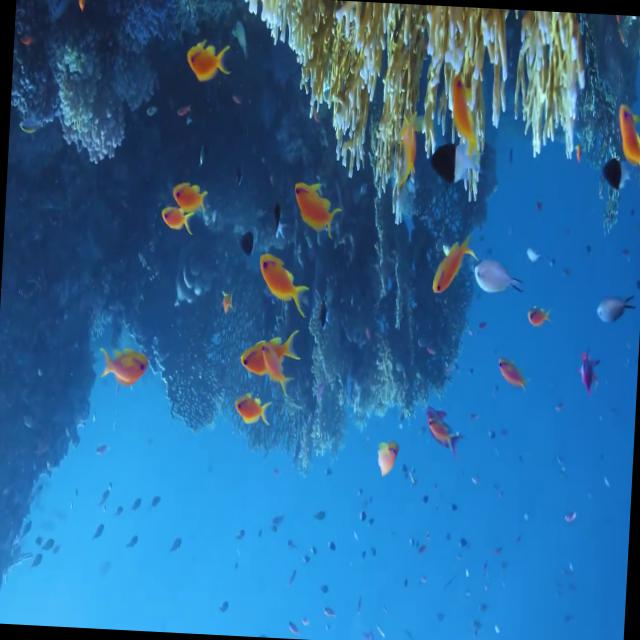fish: (254, 244, 316, 331), (282, 170, 350, 247), (422, 228, 480, 313), (424, 141, 498, 189), (183, 26, 234, 88), (256, 340, 297, 414), (233, 336, 301, 379), (590, 280, 638, 340), (492, 342, 536, 406), (95, 345, 152, 391), (610, 91, 640, 177), (231, 390, 277, 445), (419, 413, 464, 468), (168, 170, 209, 227), (156, 200, 201, 247), (597, 148, 630, 205), (522, 294, 526, 310)
